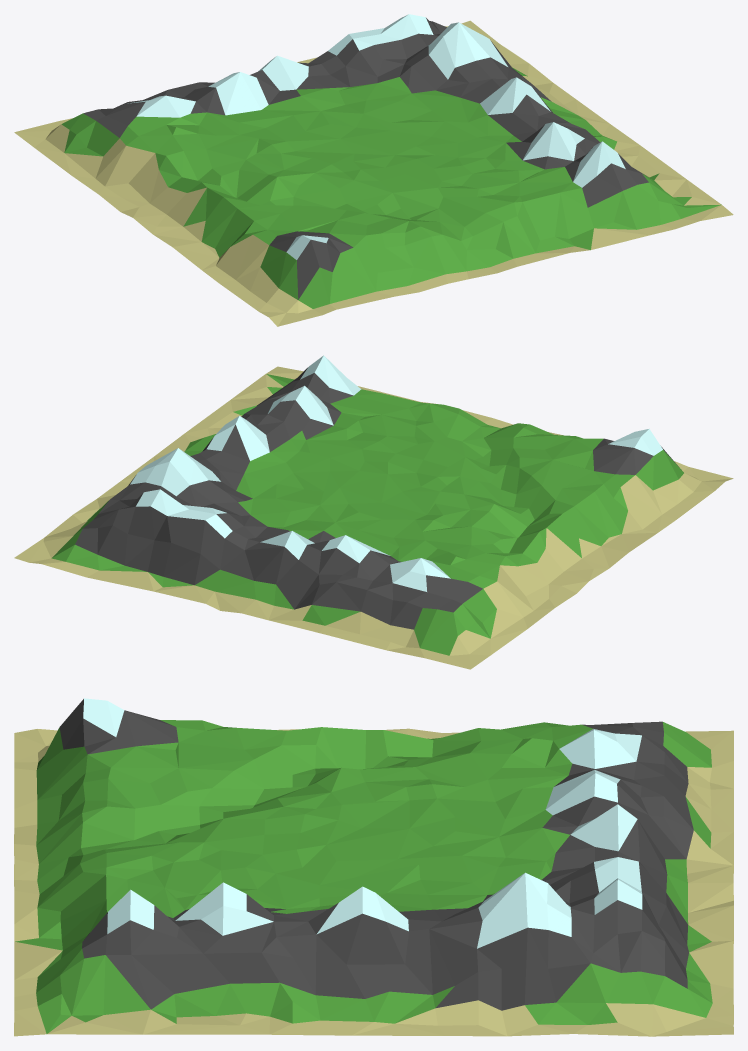
Rendered from Naturemap.fbx.
3 renders of one model, top to bottom at view 1: azimuth 30°, elevation 25°; view 2: azimuth 150°, elevation 25°; view 3: azimuth 270°, elevation 25°, orthographic. The views are drawn at different scales.
Parts seen in each view (by area): view 1: Plane; view 2: Plane; view 3: Plane.
Part boxes in pixels (left/top/right/bottom): Plane: left=14, top=14, right=733, bottom=326; Plane: left=14, top=355, right=733, bottom=669; Plane: left=14, top=698, right=733, bottom=1036.
Bounding box in the file's own units: 2911 × 477 × 2911.
